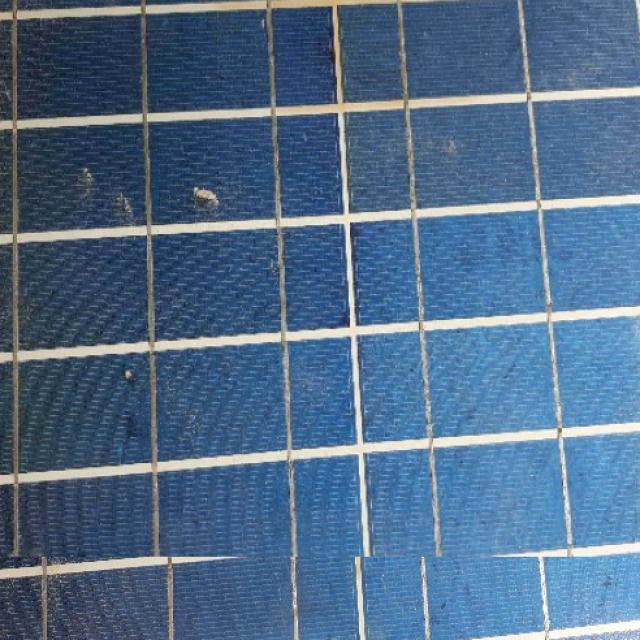Dirty: (0, 0, 640, 557)
